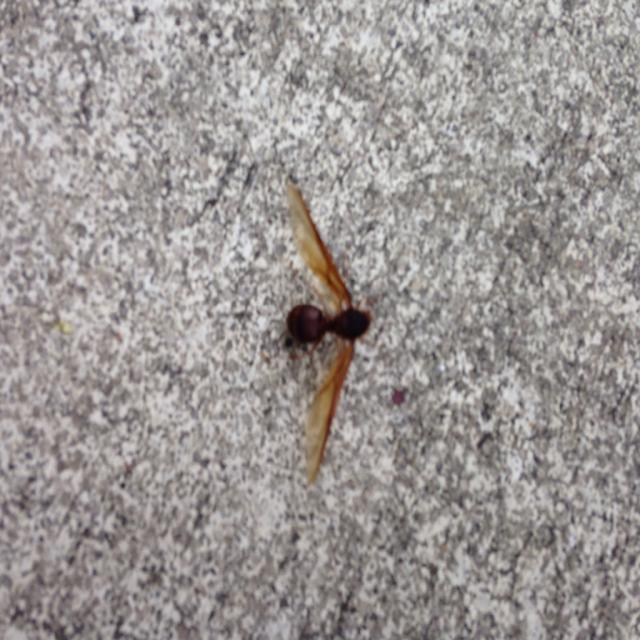Alive-Male-Alate: (260, 178, 377, 487)
